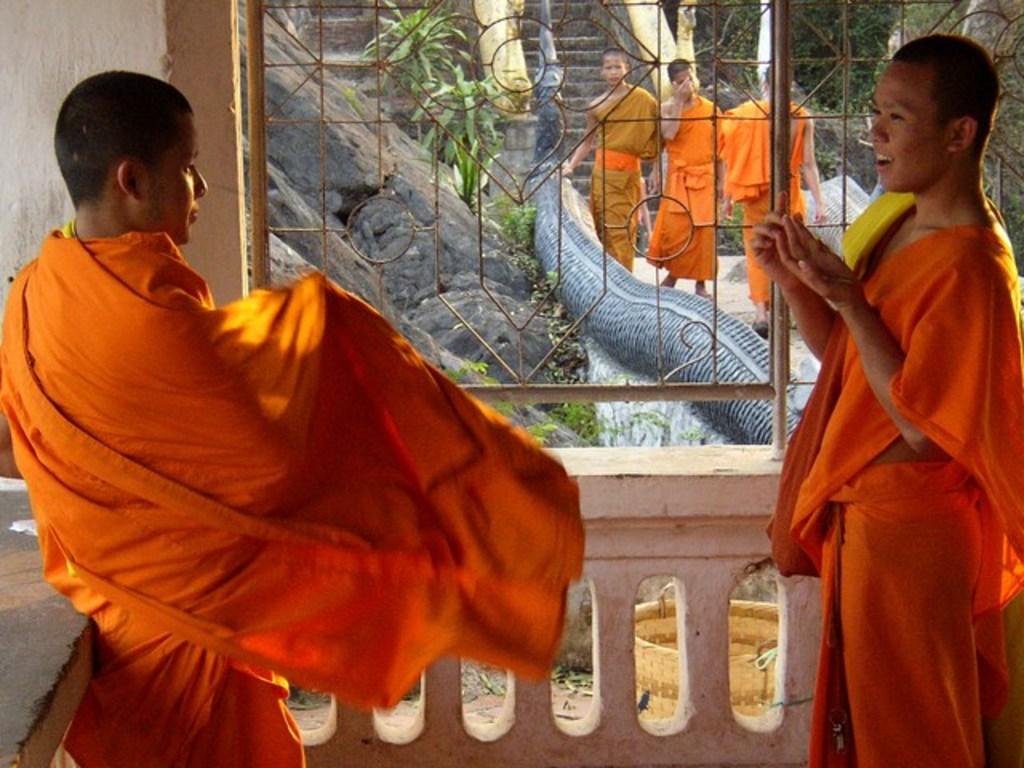Person: (0, 70, 589, 768), (749, 34, 1024, 768), (720, 66, 829, 336), (556, 47, 667, 272), (649, 54, 723, 304)
